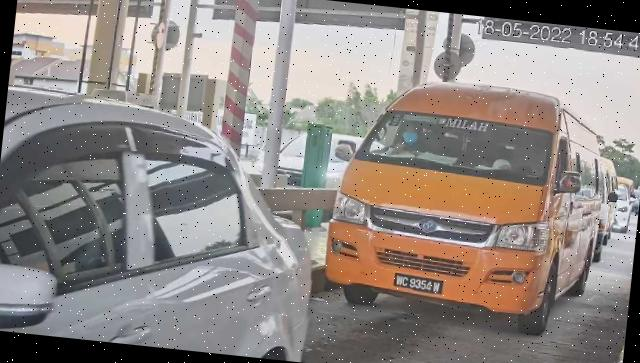License_Plate: (393, 272, 446, 298)
van: (321, 71, 614, 342)
